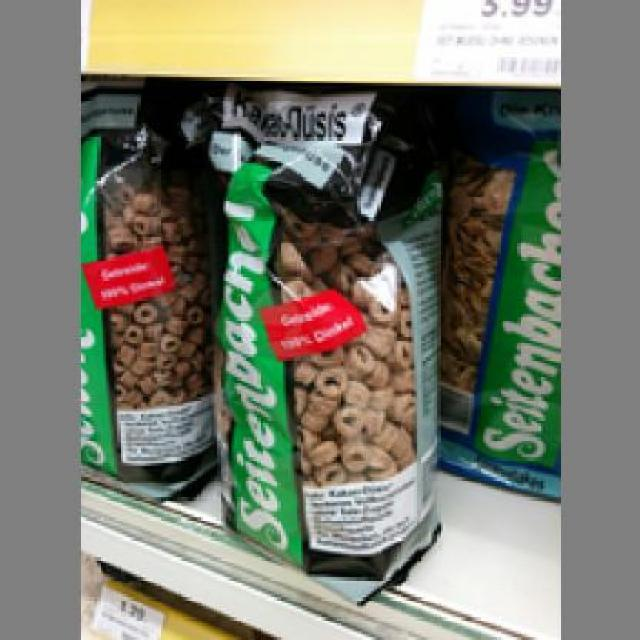Cereal: (208, 76, 446, 610), (77, 71, 217, 498)
